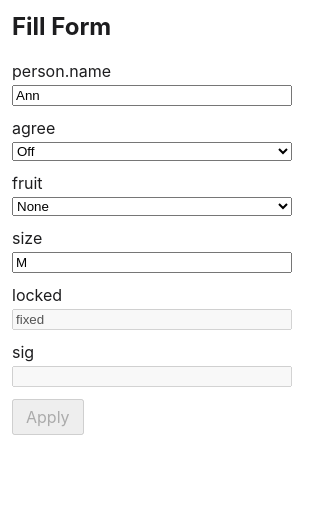
Test: FillForm › shows one control per field and sends only the changed values
expect the field labelled "locked" is disabled: met, box [12,309,292,330]
expect the field labelled "sig" is disabled: met, box [12,366,292,387]
Replace the text in the field labelled "person.name" with "Zed": (152, 95) [12,85,292,106]
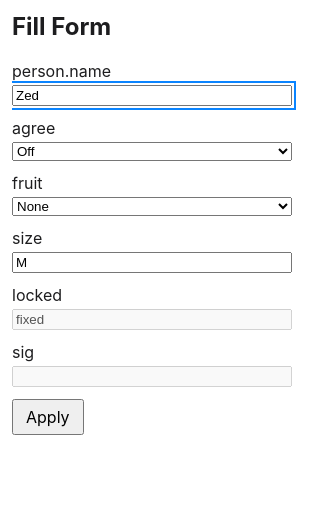
Select "Agreed" in the dropdown labelled "agree": (152, 151) [12,142,292,161]
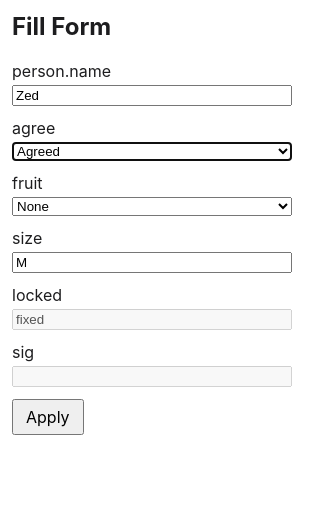
Select "Pear" in the dropdown labelled "fruit": (152, 206) [12,197,292,216]
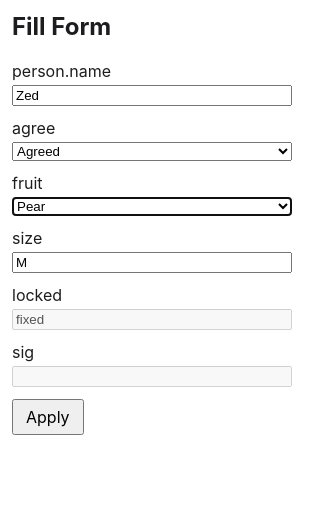
In the field labelled "size": (152, 262) [12,252,292,273], type "L"
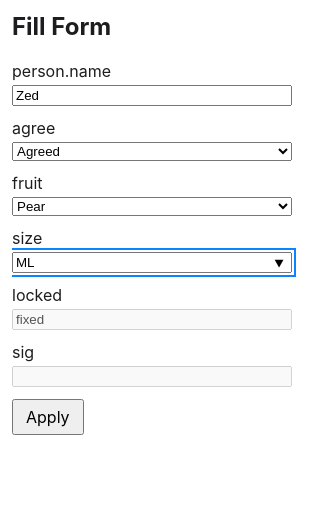
Click the button "Apply": click(48, 417) [12,399,84,435]
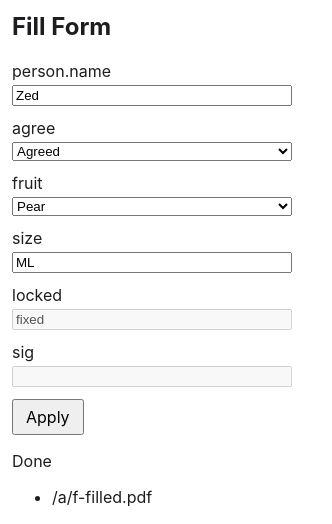
expect the list item "/a/f-filled.pdf" is shown: met, box [52,487,152,507]
